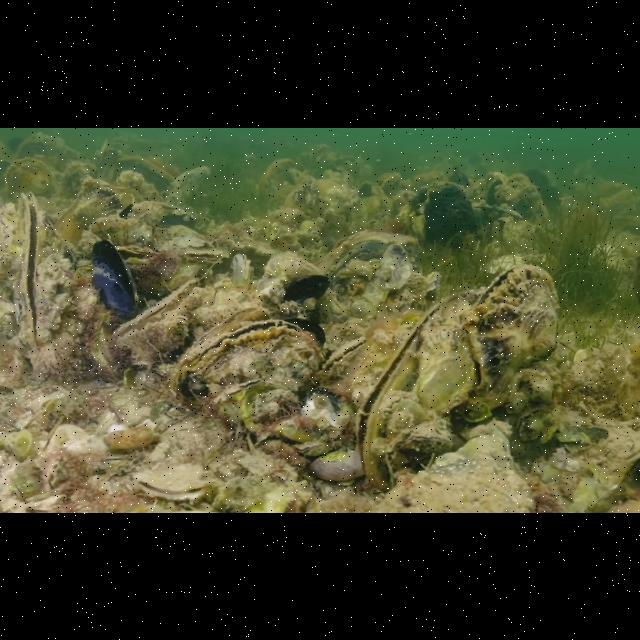Oyster-Closed: (116, 276, 202, 342), (323, 228, 423, 276), (90, 238, 144, 324), (116, 233, 224, 265), (383, 391, 423, 422), (0, 201, 20, 253), (293, 436, 335, 456)
Oyster-Open: (360, 282, 484, 490), (180, 319, 326, 397), (478, 263, 560, 401), (10, 190, 56, 352), (135, 456, 215, 502), (322, 336, 370, 376)
